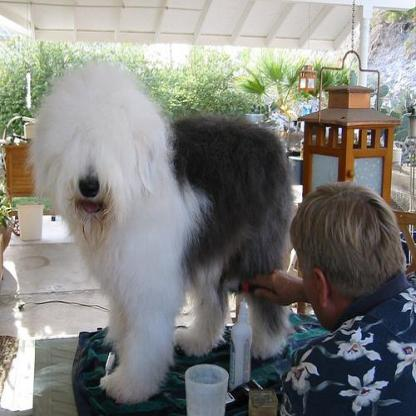Old_English_sheepdog: (21, 56, 298, 404)
